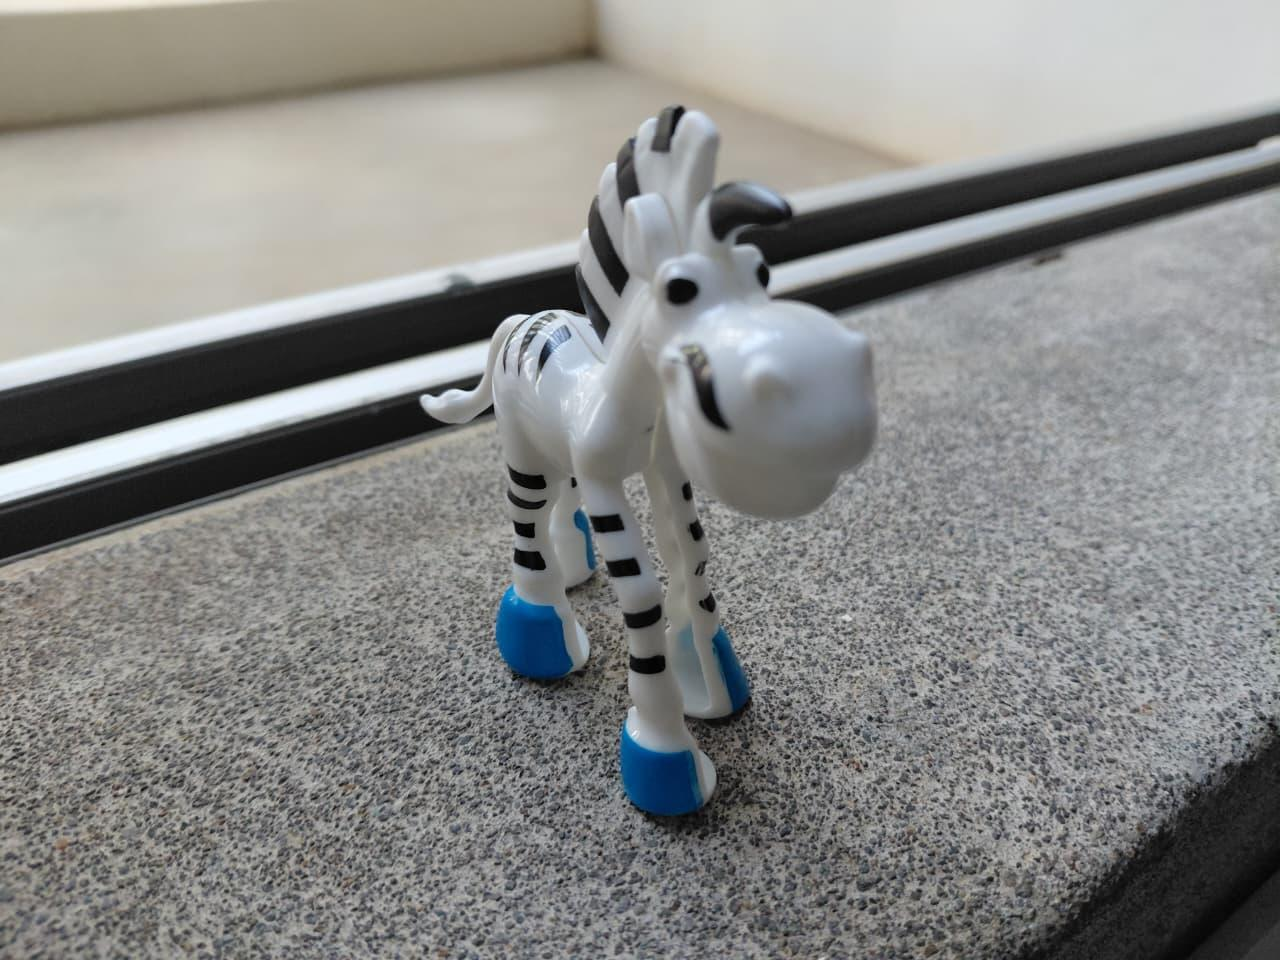zebra: (366, 99, 918, 833)
